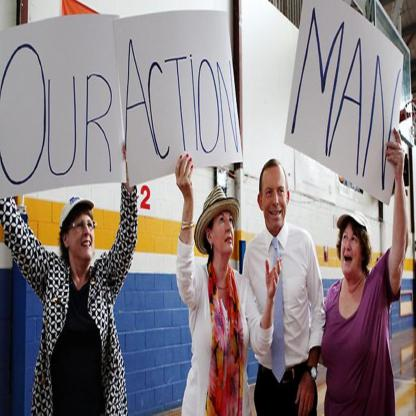face: (261, 176, 288, 232), (70, 217, 97, 259), (212, 214, 236, 257), (342, 228, 362, 277)
